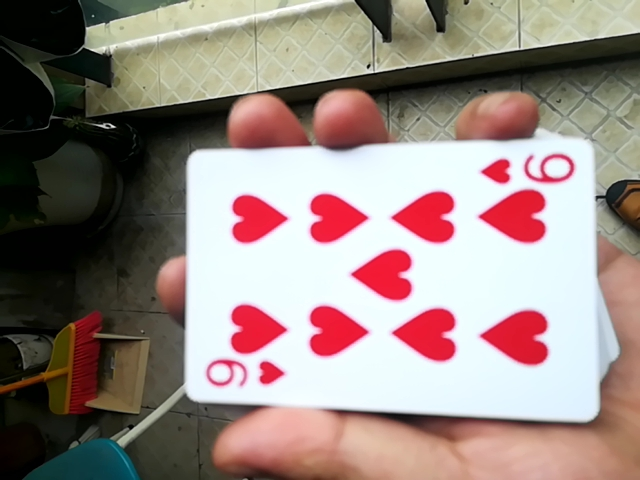hx 9: (170, 142, 600, 424)
